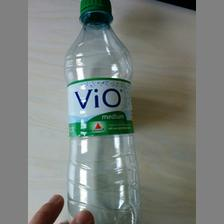Wasser: (62, 0, 142, 224)
